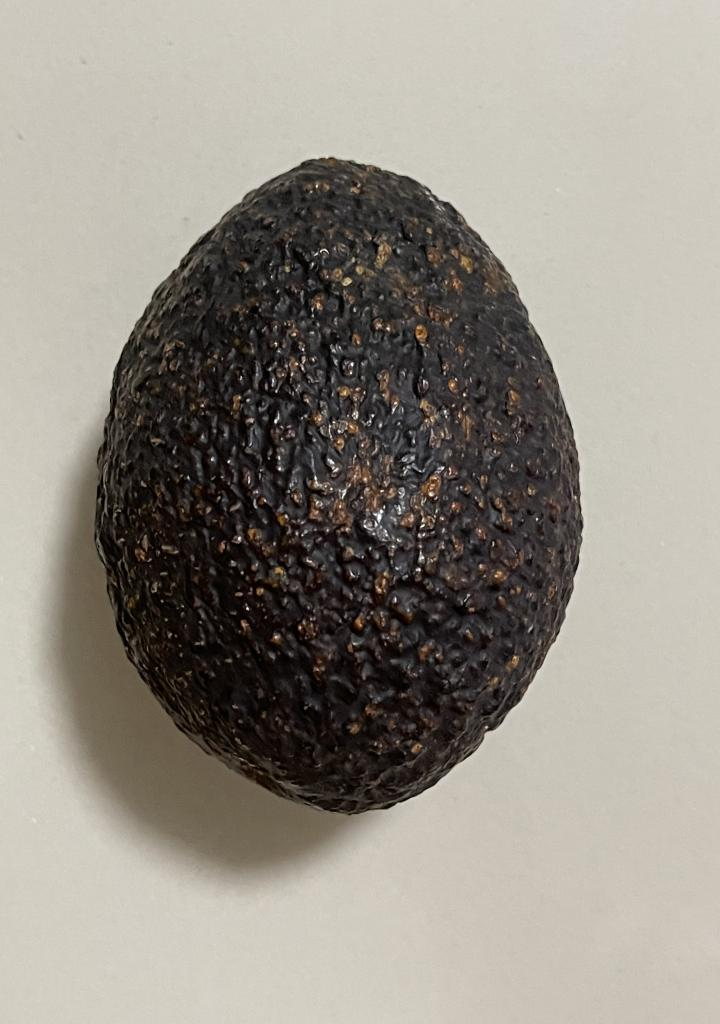Level3: (86, 140, 600, 826)
